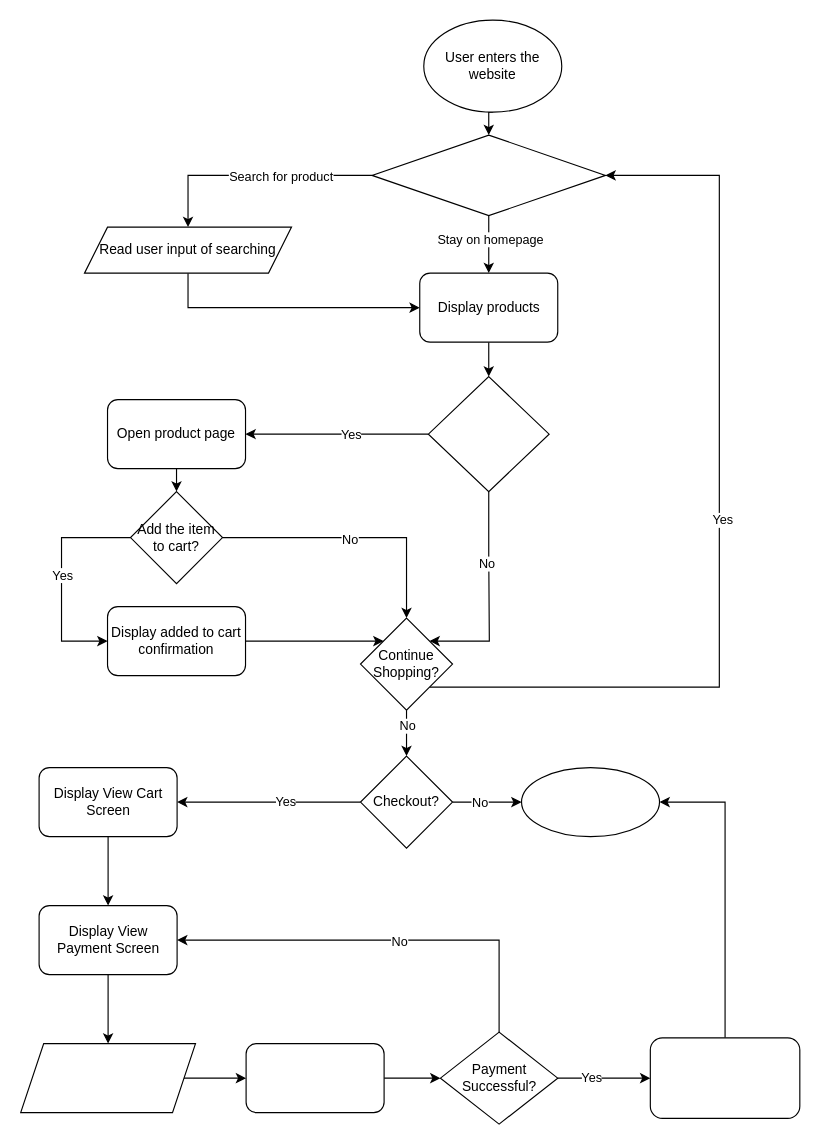
The diagram is 820 pixels wide and 1144 high, and some of its shapes have lost their labels. The shapes that lost their labels are listed below. From the top down, each one's box as (x1, y1, x2, y2) in pixels, then its label:
(371, 134, 605, 216): Search for product? or Explore products on home page
(427, 375, 549, 492): View a specific product?
(520, 766, 660, 837): End (User leaves website)
(20, 1042, 195, 1113): Read User Payment Information
(245, 1042, 384, 1113): Process Payments
(649, 1037, 800, 1118): Display Order Confirmation Screen, send Email to the User
